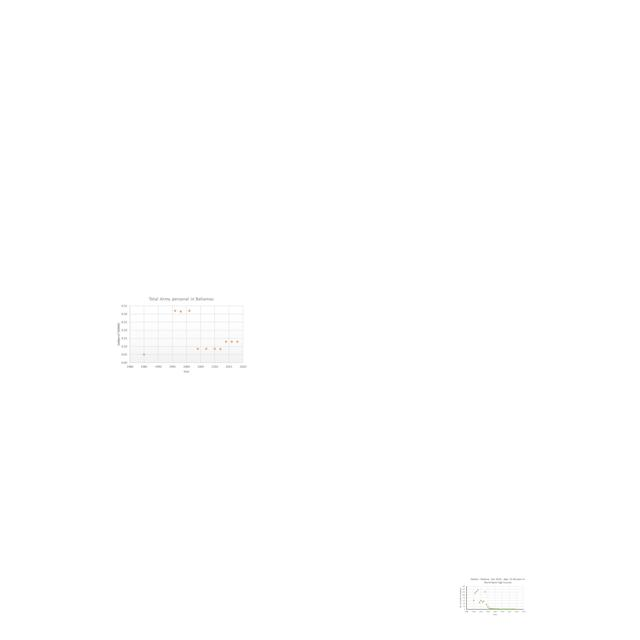Graph: (116, 295, 247, 376), (458, 576, 527, 618)
